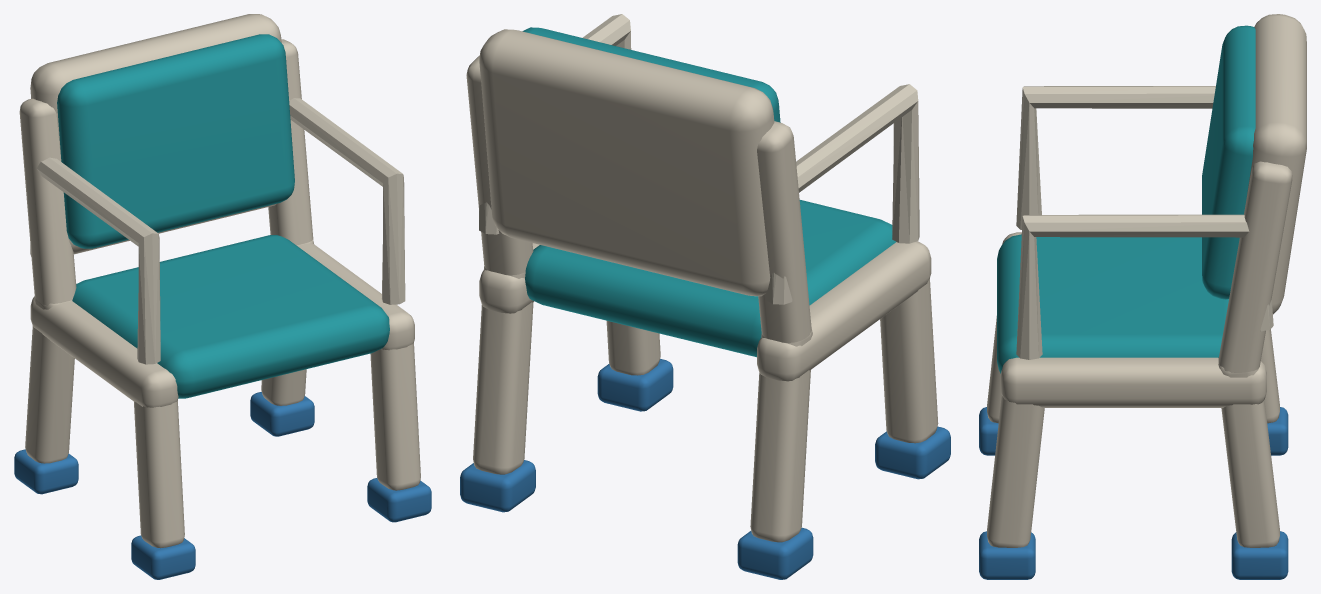
File: 11_standard_chair_left.glb
The picture shows the model from 3 angles, left to right: view 1: azimuth 30°, elevation 25°; view 2: azimuth 150°, elevation 25°; view 3: azimuth 270°, elevation 25°; orthographic projection. The views are drawn at different scales.
Parts seen in each view (by area): view 1: 11_standard_chair_left__Static; view 2: 11_standard_chair_left__Static; view 3: 11_standard_chair_left__Static.
Part boxes in pixels (box(x1,y1,x2,y2)): 11_standard_chair_left__Static: box(14, 14, 431, 579); 11_standard_chair_left__Static: box(460, 14, 950, 579); 11_standard_chair_left__Static: box(979, 14, 1306, 579).
Bounding box in the file's own units: 0.664 × 0.9238 × 0.6243.
